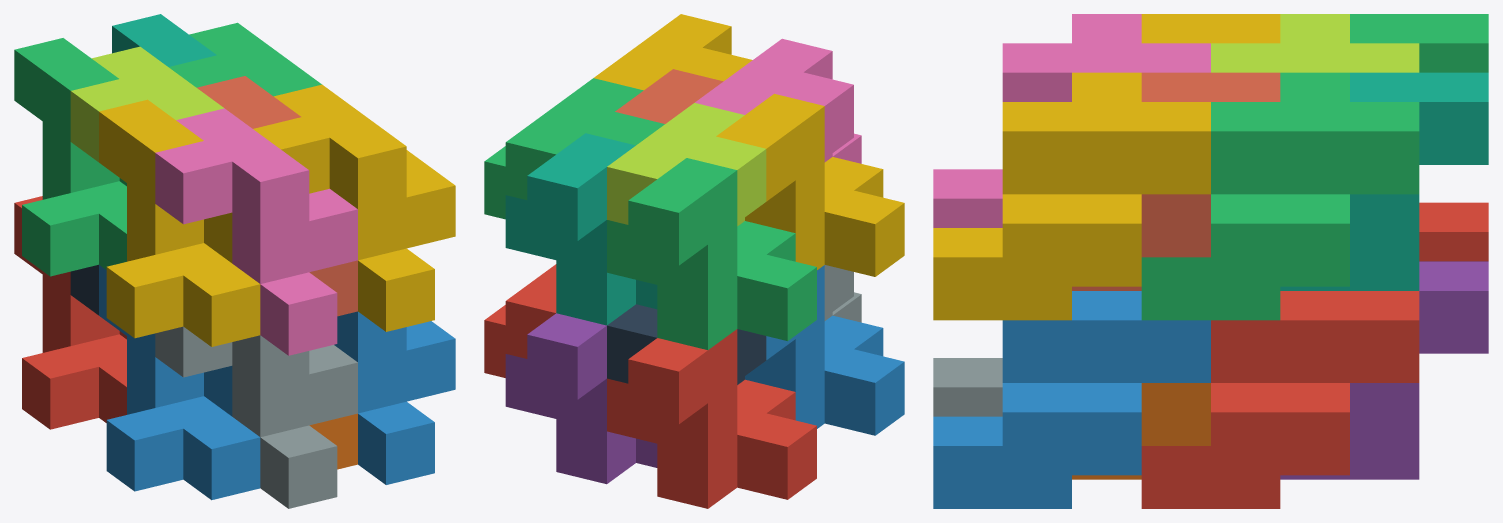
The model's file is tiling.obj.
The picture shows the model from 3 angles, left to right: view 1: azimuth 30°, elevation 25°; view 2: azimuth 150°, elevation 25°; view 3: azimuth 270°, elevation 25°; orthographic projection. The views are drawn at different scales.
Visible parts, largest first — view 1: copy_2_domain_4, copy_2_domain_8, copy_1_domain_4, copy_2_domain_2, copy_1_domain_2, copy_1_domain_3, copy_2_domain_6, copy_1_domain_1, copy_2_domain_3, copy_2_domain_7, copy_1_domain_8, copy_1_domain_7 (+2 smaller); view 2: copy_1_domain_3, copy_1_domain_1, copy_1_domain_4, copy_1_domain_7, copy_1_domain_5, copy_1_domain_2, copy_2_domain_3, copy_2_domain_7, copy_2_domain_4, copy_2_domain_8, copy_2_domain_5, copy_2_domain_1 (+2 smaller); view 3: copy_2_domain_8, copy_2_domain_7, copy_2_domain_6, copy_2_domain_5, copy_1_domain_7, copy_2_domain_4, copy_1_domain_5, copy_1_domain_8, copy_2_domain_3, copy_1_domain_3, copy_1_domain_6, copy_1_domain_1 (+2 smaller).
Part boxes in pixels (left/top/right/bottom): copy_2_domain_4: left=155, top=108, right=357, bottom=355; copy_2_domain_8: left=253, top=84, right=455, bottom=331; copy_1_domain_4: left=99, top=99, right=260, bottom=346; copy_2_domain_2: left=155, top=326, right=357, bottom=508; copy_1_domain_2: left=99, top=265, right=260, bottom=500; copy_1_domain_3: left=14, top=38, right=126, bottom=276; copy_2_domain_6: left=334, top=311, right=455, bottom=484; copy_1_domain_1: left=14, top=196, right=126, bottom=429; copy_2_domain_3: left=70, top=46, right=223, bottom=162; copy_2_domain_7: left=168, top=22, right=321, bottom=96; copy_1_domain_8: left=197, top=76, right=357, bottom=316; copy_1_domain_7: left=112, top=14, right=216, bottom=66; copy_1_domain_3: left=607, top=158, right=816, bottom=349; copy_1_domain_1: left=607, top=329, right=816, bottom=508; copy_1_domain_4: left=716, top=93, right=904, bottom=276; copy_1_domain_7: left=505, top=133, right=657, bottom=325; copy_1_domain_5: left=505, top=313, right=657, bottom=484; copy_1_domain_2: left=745, top=265, right=904, bottom=435; copy_2_domain_3: left=607, top=103, right=766, bottom=226; copy_2_domain_7: left=484, top=78, right=664, bottom=219; copy_2_domain_4: left=695, top=38, right=861, bottom=163; copy_2_domain_8: left=594, top=14, right=752, bottom=90; copy_2_domain_5: left=484, top=264, right=556, bottom=377; copy_2_domain_1: left=607, top=304, right=766, bottom=384; copy_2_domain_8: left=933, top=72, right=1210, bottom=320; copy_2_domain_7: left=1141, top=72, right=1419, bottom=320; copy_2_domain_6: left=933, top=291, right=1210, bottom=508; copy_2_domain_5: left=1141, top=291, right=1419, bottom=508; copy_1_domain_7: left=1280, top=72, right=1488, bottom=290; copy_2_domain_4: left=933, top=14, right=1210, bottom=227; copy_1_domain_5: left=1280, top=261, right=1488, bottom=479; copy_1_domain_8: left=1072, top=72, right=1280, bottom=290; copy_2_domain_3: left=1211, top=14, right=1419, bottom=72; copy_1_domain_3: left=1350, top=14, right=1488, bottom=72; copy_1_domain_6: left=1072, top=383, right=1210, bottom=479; copy_1_domain_1: left=1419, top=202, right=1488, bottom=261.
Bounding box in the file's own units: 6 × 6 × 8.
